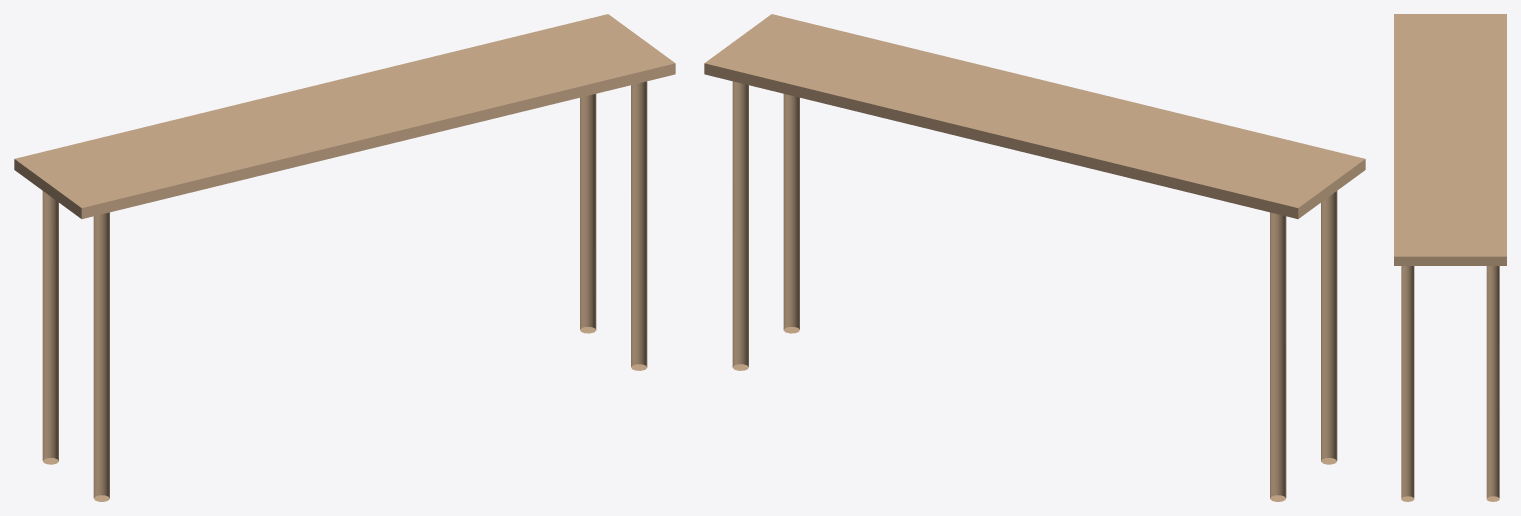
The model's file is console_table_09.glb.
3 views of the same model, side by side, from view 1: azimuth 30°, elevation 25°; view 2: azimuth 150°, elevation 25°; view 3: azimuth 270°, elevation 25° (orthographic). The views are drawn at different scales.
Bounding box in the file's own units: 1.68 × 0.82 × 0.33.
